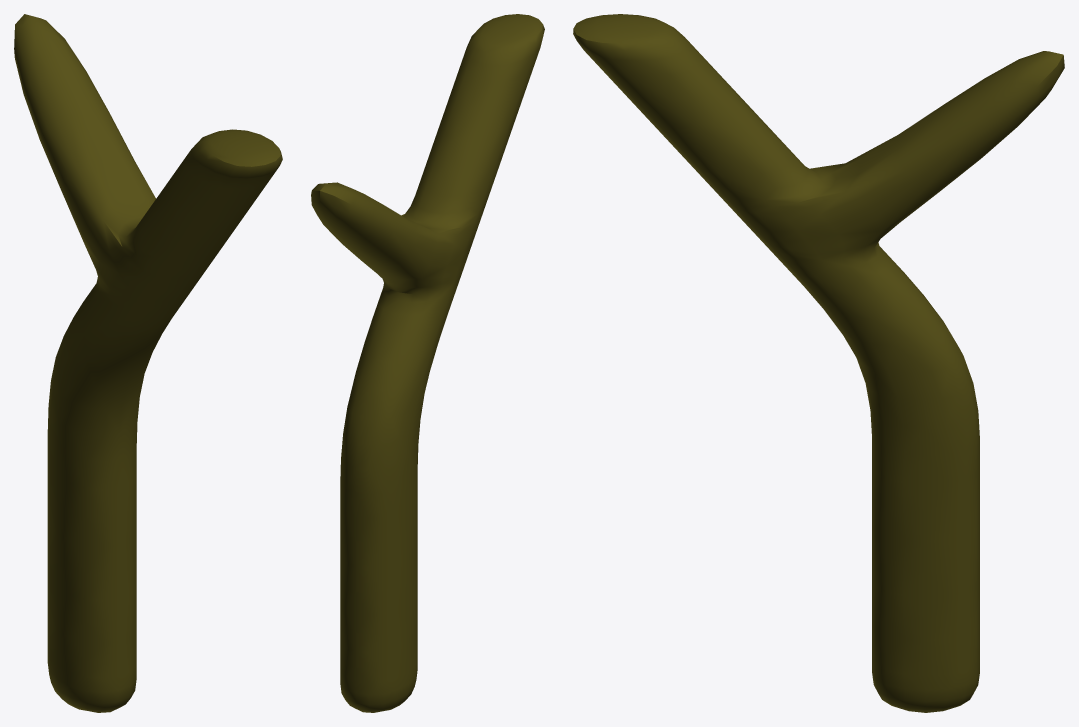
The model's file is Dead Tree 1.fbx.
3 views of the same model, side by side, from view 1: azimuth 30°, elevation 25°; view 2: azimuth 150°, elevation 25°; view 3: azimuth 270°, elevation 25° (orthographic). The views are drawn at different scales.
Visible parts, largest first — view 1: Cube; view 2: Cube; view 3: Cube.
Part boxes in pixels (bbox=[...]): Cube: bbox=[14, 14, 282, 712]; Cube: bbox=[311, 14, 544, 712]; Cube: bbox=[573, 14, 1064, 712].
Bounding box in the file's own units: 26.02 × 234 × 153.
